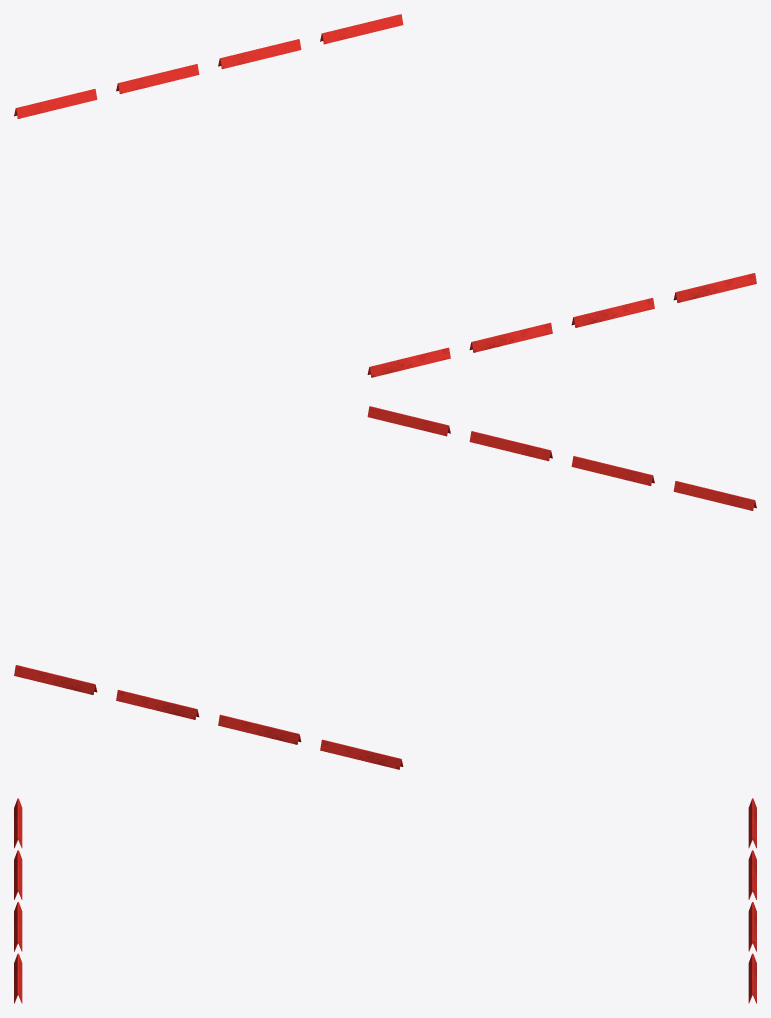
Rendered from Carteles_Cancha.fbx.
3 renders of one model, top to bottom at view 1: azimuth 30°, elevation 25°; view 2: azimuth 150°, elevation 25°; view 3: azimuth 270°, elevation 25°, orthographic. The views are drawn at different scales.
Parts seen in each view (by area): view 1: Cartel_Cancha; view 2: Cartel_Cancha; view 3: Cartel_Cancha.
Part boxes in pixels (x1,y1,x2,y2): Cartel_Cancha: (14, 14, 756, 377); Cartel_Cancha: (14, 406, 756, 769); Cartel_Cancha: (14, 798, 756, 1003).
Size of the model in its own units: 2270 by 52.45 by 3648.
Materials: 1 (1 with a texture image).
